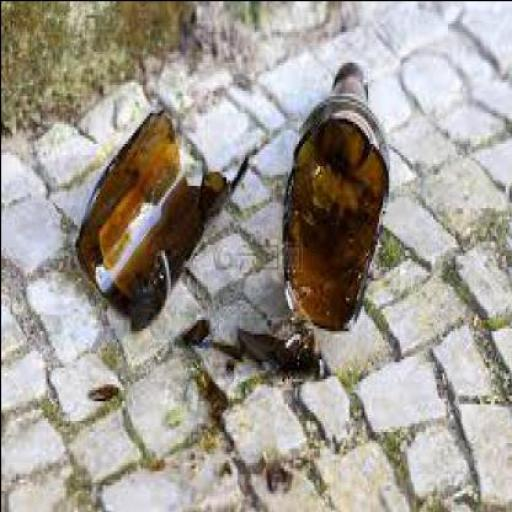glass: (72, 104, 248, 328), (279, 59, 388, 327), (236, 325, 316, 372), (194, 367, 223, 417), (260, 453, 292, 487), (179, 316, 206, 344), (216, 338, 244, 360), (86, 380, 118, 398), (214, 456, 232, 473), (198, 430, 216, 446), (147, 454, 161, 464)
